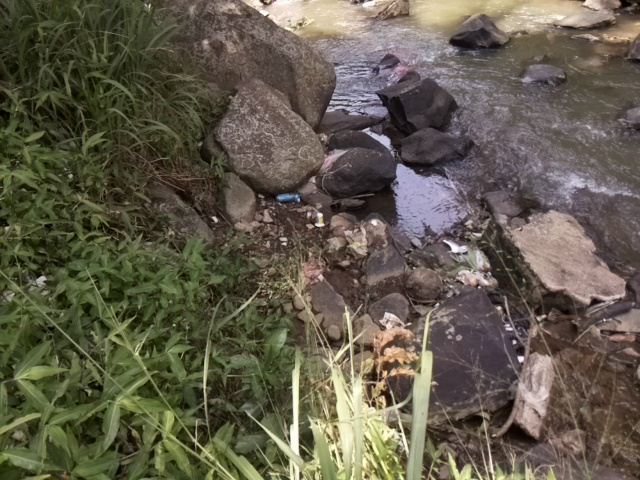Sampah_Botol_Plastik: (272, 191, 305, 205)
Sampah_Plastik: (449, 234, 493, 287), (318, 147, 348, 173)
Sampah_Styrofoam: (315, 212, 327, 227)
